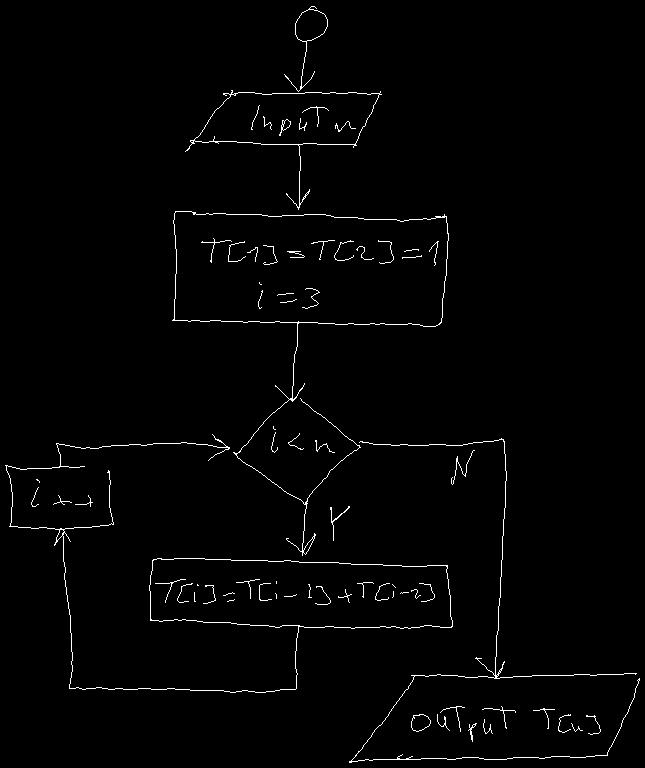arrow: (54, 528, 299, 692), (359, 438, 506, 678), (56, 434, 229, 467), (275, 321, 304, 401), (286, 503, 315, 555), (284, 41, 314, 91), (286, 144, 309, 209)
connection: (295, 6, 327, 41)
data: (349, 673, 639, 762), (185, 90, 381, 151)
decision: (233, 398, 360, 504)
process: (172, 211, 448, 326), (149, 558, 452, 628), (5, 465, 113, 529)
text: (201, 238, 438, 308), (155, 579, 434, 604), (411, 706, 600, 741), (251, 105, 355, 135), (31, 479, 92, 506), (271, 426, 334, 452), (451, 450, 474, 484), (330, 506, 349, 540)
